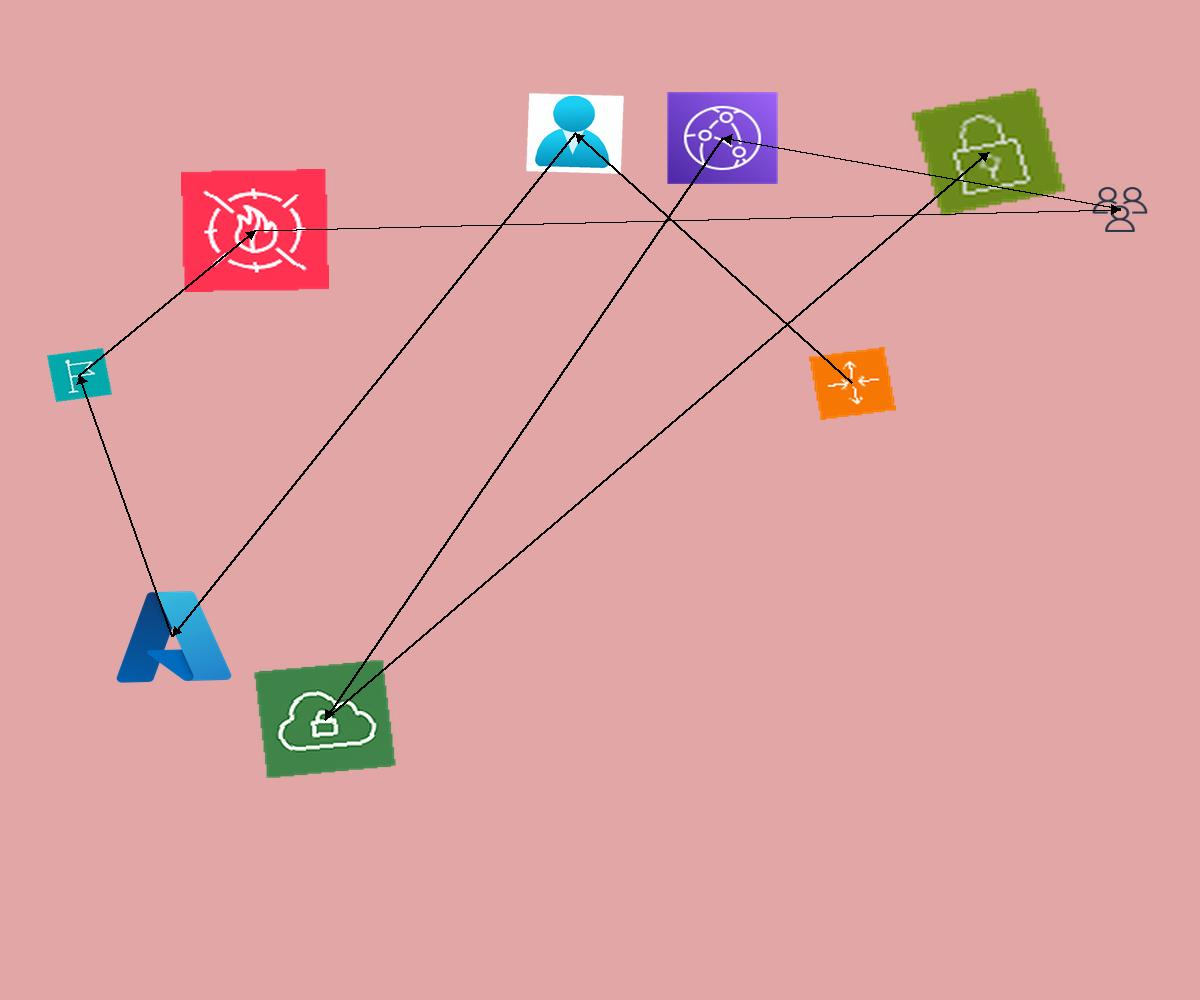AWS-CloudFront: (666, 91, 779, 185)
AWS-Private_vpc: (253, 659, 397, 779)
AWS-Public-subnet: (909, 86, 1068, 218)
AWS-Region: (47, 348, 112, 402)
AWS-Res_Users: (1089, 184, 1151, 235)
AWS-Scaling-group: (809, 347, 896, 420)
AWS-WAF: (181, 169, 329, 292)
Azure_services: (108, 583, 237, 690)
Azure_users: (526, 93, 624, 174)
